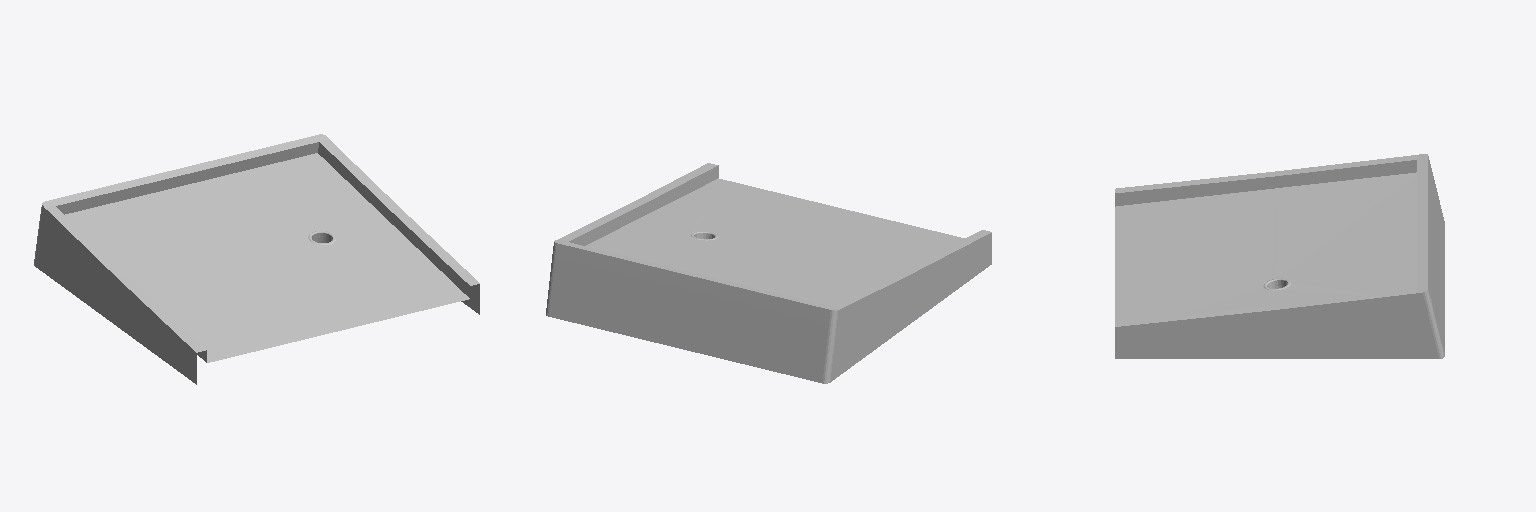
The model's file is sSlopeHole_right_3x3.obj.
3 views of the same model, side by side, from view 1: azimuth 30°, elevation 25°; view 2: azimuth 150°, elevation 25°; view 3: azimuth 270°, elevation 25° (orthographic).
Visible parts, largest first — view 1: modelPanel2ViewSelectedSet sSlopeHole_right_3x3; view 2: modelPanel2ViewSelectedSet sSlopeHole_right_3x3; view 3: modelPanel2ViewSelectedSet sSlopeHole_right_3x3.
Part boxes in pixels (x1,y1,x2,y2): modelPanel2ViewSelectedSet sSlopeHole_right_3x3: (34, 134, 479, 384); modelPanel2ViewSelectedSet sSlopeHole_right_3x3: (546, 163, 991, 383); modelPanel2ViewSelectedSet sSlopeHole_right_3x3: (1115, 154, 1444, 358).
Size of the model in its own units: 3 by 0.6807 by 3.02.